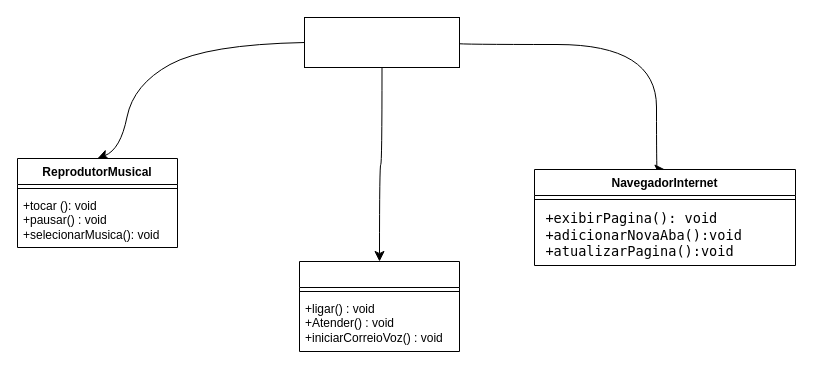
This 813x372 diagram has some shape labels left out. The shapes that lost their labels are listed below. From the top down, each one's box as (x1, y1, x2, y2) in pixels, then its label:
(304, 16, 460, 68): Iphone
(298, 260, 460, 352): AparelhoTelefonico
